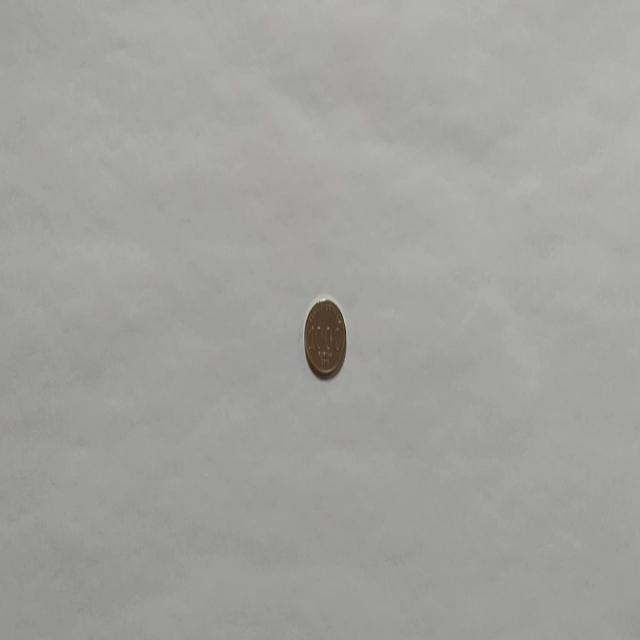seribu rupiah koin: (302, 294, 348, 380)
